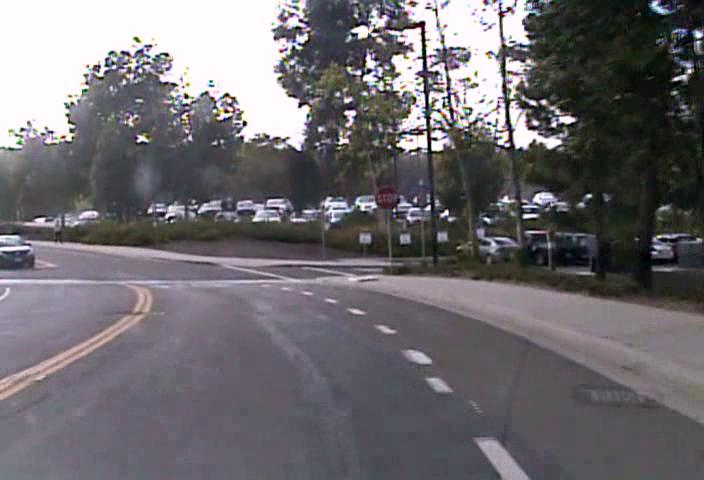stop: (373, 185, 401, 212)
